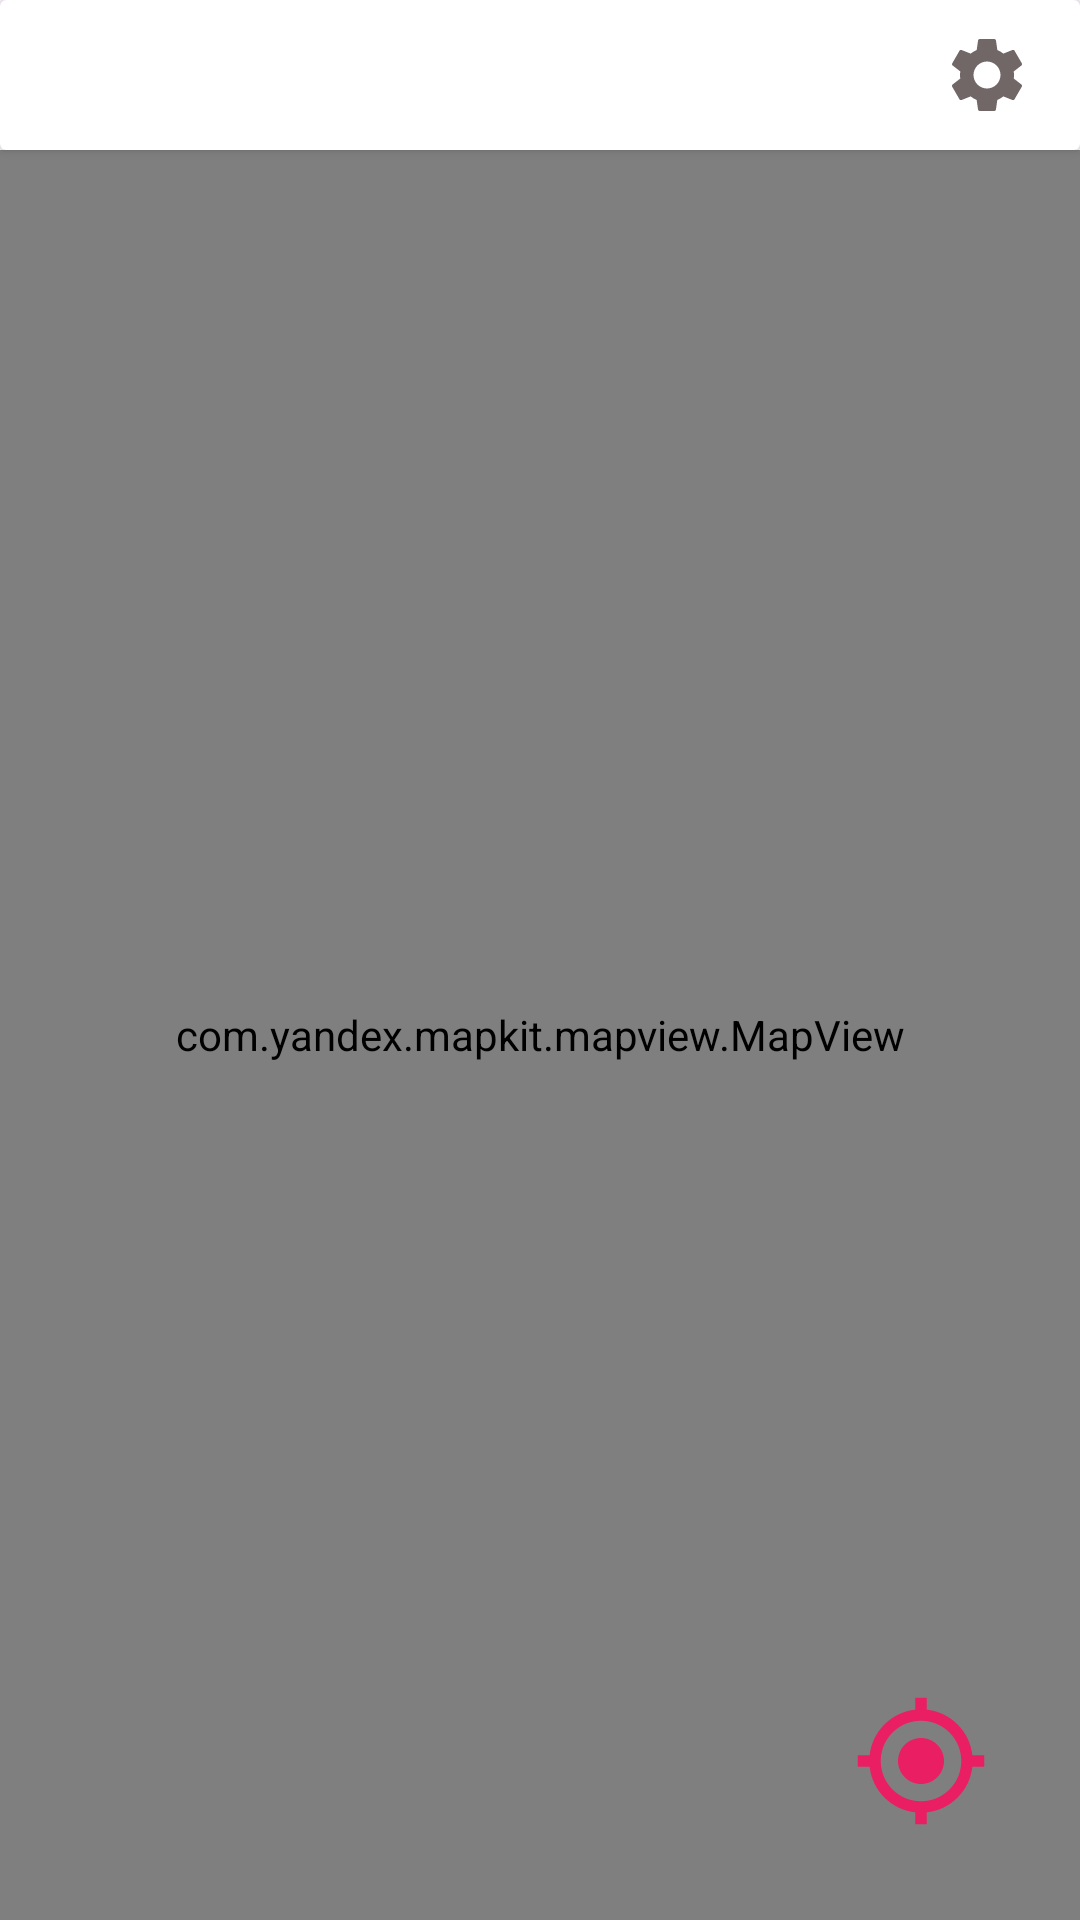

Icons on this 1080×1920 Android screen, each with the point to tap as (x,y):
location: (921,1761)
settings: (987,75)
